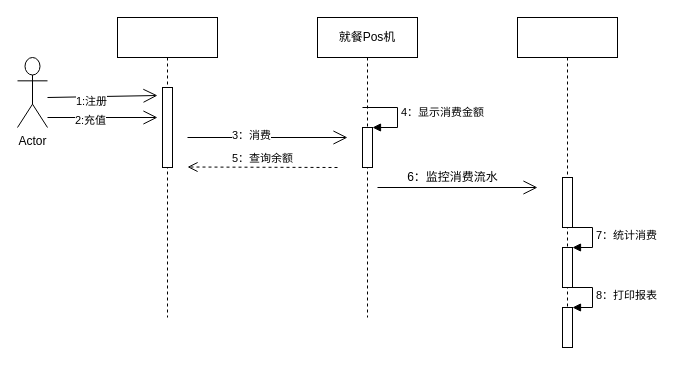
This 675x365 diagram has some shape labels left out. Here are the shapes that lost their labels. From the top down, the centre of each, then its label:
At point (167, 167): "就餐系统前台".
At point (567, 182): "就餐系统后台".
